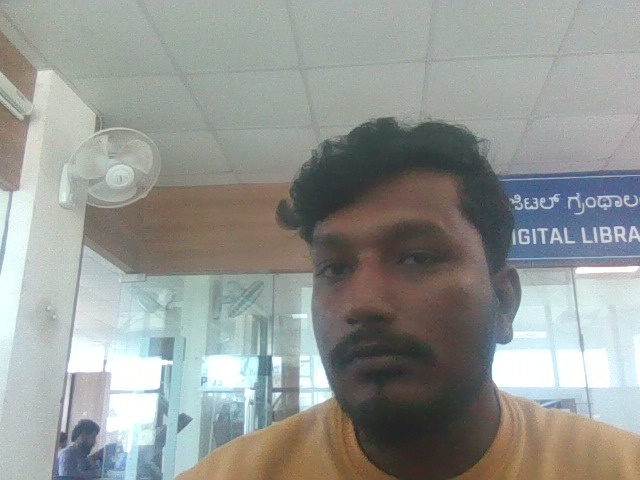real: (282, 100, 524, 441)
